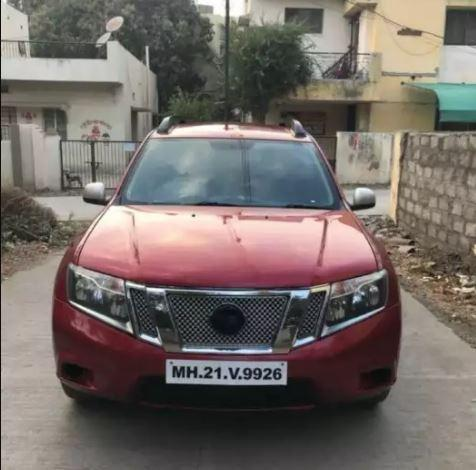number_plate: (164, 356, 294, 390)
